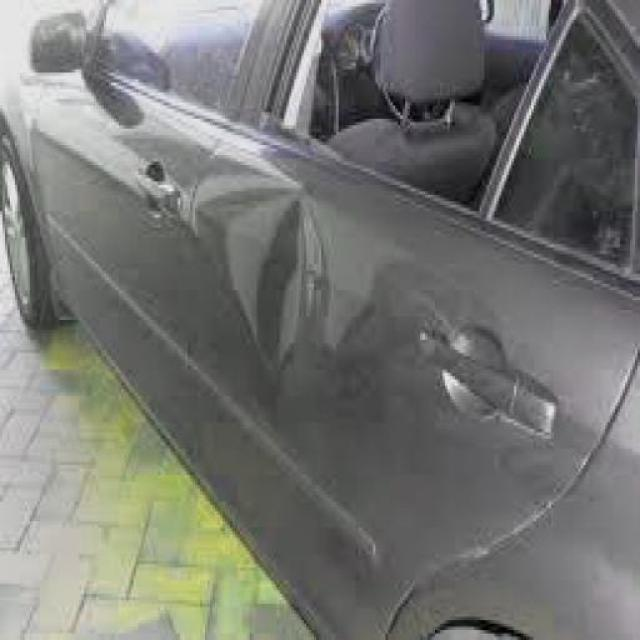Car-Damage: (212, 183, 328, 386)
